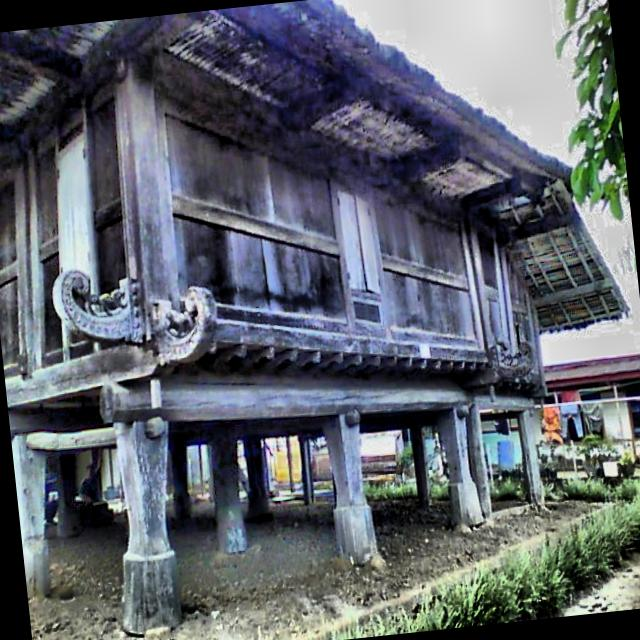column: (113, 421, 182, 636), (323, 413, 377, 564), (11, 434, 50, 597), (438, 407, 482, 526), (209, 440, 246, 553), (464, 404, 491, 514), (242, 439, 272, 523), (517, 410, 543, 503), (410, 426, 430, 507), (170, 445, 192, 518), (298, 434, 314, 504), (285, 436, 295, 491)
ornamen: (53, 269, 216, 362)
roof: (0, 0, 630, 333)
wall: (0, 58, 545, 405)
window: (56, 136, 97, 343), (337, 191, 380, 293)
